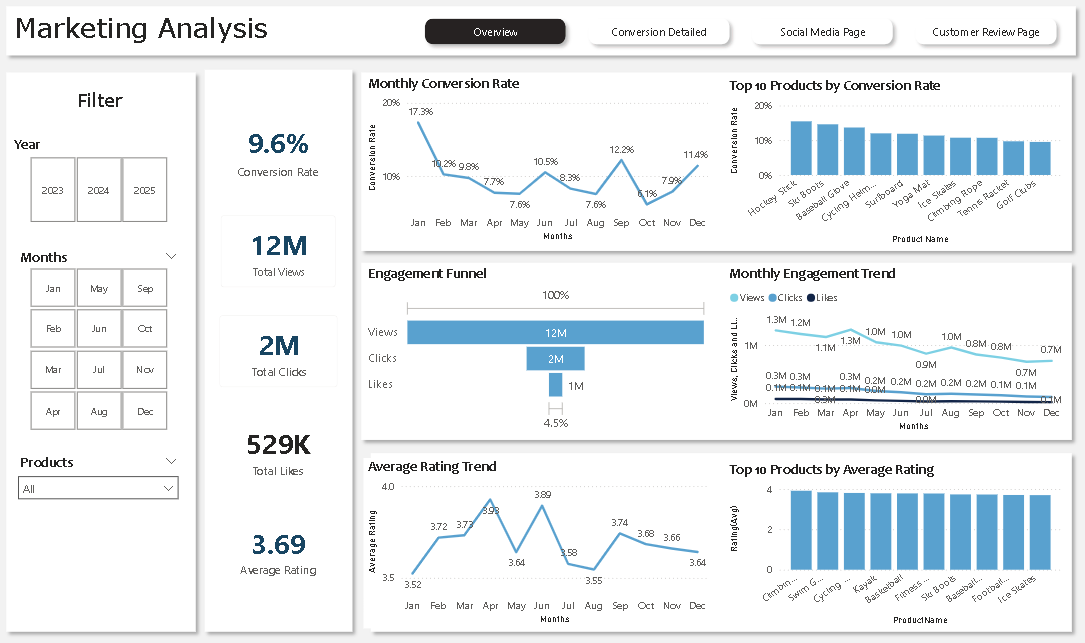

This screenshot's page, from the dashboard's own definition file:
{"tool":"powerbi","page":{"name":"Overview","canvas":[1350,800],"ordinal":0},"visuals":[{"type":"shape","box":[245,78.3,200,711.7],"z":0},{"type":"shape","box":[0,81.7,251.7,708.3],"z":500},{"type":"shape","box":[438.3,81.7,895,238.3],"z":1000},{"type":"shape","box":[438.3,316.7,895,236.7],"z":2000},{"type":"shape","box":[450,551.7,883.3,238.3],"z":3000},{"type":"cardVisual","fields":{"Data":["_Calculation.Conversion Rate"]},"box":[255.6,126.3,180,123.3],"z":4000},{"type":"cardVisual","fields":{"Data":["_Calculation.Clicks"]},"box":[255.6,373,180,123.3],"z":5000},{"type":"cardVisual","fields":{"Data":["_Calculation.Views"]},"box":[257.2,249.6,176.7,123.3],"z":6000},{"type":"cardVisual","fields":{"Data":["_Calculation.Likes"]},"box":[255.6,496.3,180,123.3],"z":7000},{"type":"cardVisual","fields":{"Data":["_Calculation.Rating(Avg)"]},"box":[255.6,619.6,180,123.3],"z":8000},{"type":"slicer","title":"Year","fields":{"Values":["Calendar.Year"]},"box":[13.3,168.3,218.3,113.3],"z":9000},{"type":"slicer","fields":{"Values":["Calendar.MonthNameShort"]},"box":[13.3,303.3,218.3,235],"z":10000},{"type":"lineChart","title":"Monthly Conversion Rate","fields":{"Y":["_Calculation.Conversion Rate"],"Category":["Calendar.MonthNameShort"]},"box":[450,94,430,210],"z":11000},{"type":"columnChart","title":"Top 10 Products by Conversion Rate","fields":{"Category":["dim_products.ProductName"],"Y":["_Calculation.Conversion Rate"]},"box":[896,96,420,210],"z":12000},{"type":"lineChart","title":"Monthly Engagement Trend","fields":{"Y":["_Calculation.Views","_Calculation.Clicks","_Calculation.Likes"],"Category":["Calendar.MonthNameShort"]},"box":[896,328,420,210],"z":13000},{"type":"funnel","title":"Engagement Funnel","fields":{"Y":["_Calculation.Views","_Calculation.Clicks","_Calculation.Likes"]},"box":[450,328.3,430,210],"z":14000},{"type":"lineChart","title":"Average Rating Trend","fields":{"Category":["Calendar.MonthNameShort"],"Y":["_Calculation.Rating(Avg)"]},"box":[450,566,430,210],"z":15000},{"type":"columnChart","title":"Top 10 Products by Average Rating","fields":{"Y":["_Calculation.Rating(Avg)"],"Category":["dim_products.ProductName"]},"box":[896,570,420,208],"z":16000},{"type":"slicer","fields":{"Values":["dim_products.ProductName"]},"box":[13.3,556.7,218.3,73.3],"z":17000},{"type":"shape","box":[0,0,1338.3,78.3],"z":18000},{"type":"textbox","title":"Marketing Analysis ","box":[13.3,15,436.7,50],"z":19000},{"type":"pageNavigator","box":[516.7,15,800,50],"z":20000},{"type":"textbox","title":"Filter","box":[46.7,108.3,155,38.3],"z":20001}]}

Visuals, with their boxes in screenshot pixels (x1, y1, x2, y2), scaled from the page's 1350x800 canvas onto the 1085x643 screenshot:
shape: region(197, 63, 358, 635)
shape: region(0, 66, 202, 635)
shape: region(352, 66, 1072, 257)
shape: region(352, 255, 1072, 445)
shape: region(362, 443, 1072, 635)
cardVisual - _Calculation.Conversion Rate: region(205, 102, 350, 201)
cardVisual - _Calculation.Clicks: region(205, 300, 350, 399)
cardVisual - _Calculation.Views: region(207, 201, 349, 300)
cardVisual - _Calculation.Likes: region(205, 399, 350, 498)
cardVisual - _Calculation.Rating(Avg): region(205, 498, 350, 597)
"Year" slicer: region(11, 135, 186, 226)
slicer - Calendar.MonthNameShort: region(11, 244, 186, 433)
"Monthly Conversion Rate" lineChart: region(362, 76, 707, 244)
"Top 10 Products by Conversion Rate" columnChart: region(720, 77, 1058, 246)
"Monthly Engagement Trend" lineChart: region(720, 264, 1058, 432)
"Engagement Funnel" funnel: region(362, 264, 707, 433)
"Average Rating Trend" lineChart: region(362, 455, 707, 624)
"Top 10 Products by Average Rating" columnChart: region(720, 458, 1058, 625)
slicer - dim_products.ProductName: region(11, 447, 186, 506)
shape: region(0, 0, 1076, 63)
"Marketing Analysis " textbox: region(11, 12, 362, 52)
pageNavigator: region(415, 12, 1058, 52)
"Filter" textbox: region(38, 87, 162, 118)
